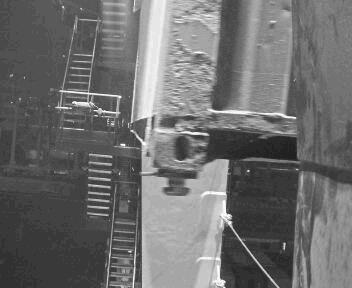twist_lock_1: (149, 164, 203, 206)
